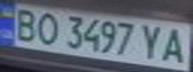3: (60, 14, 84, 50)
4: (78, 16, 103, 52)
7: (115, 19, 139, 56)
9: (96, 18, 121, 55)
A: (157, 25, 190, 64)
B: (9, 6, 42, 43)
O: (30, 10, 63, 46)
Y: (136, 21, 169, 61)
